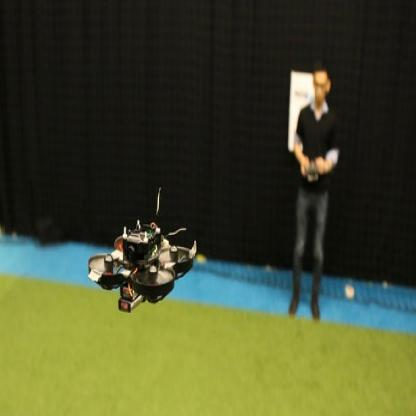drone: (82, 209, 202, 308)
